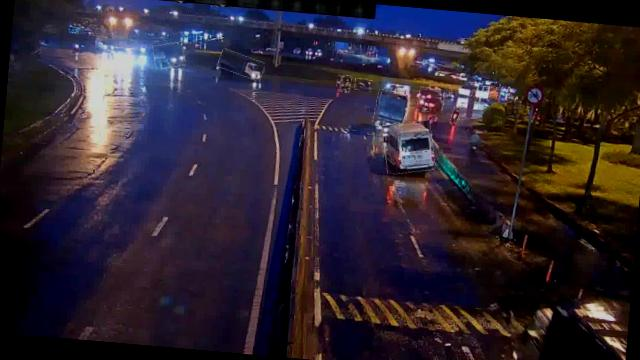Bike: (354, 78, 372, 91), (337, 76, 352, 90), (450, 106, 460, 125)
Bus: (380, 119, 438, 176)
Truck: (373, 90, 410, 131), (218, 50, 266, 78), (152, 41, 186, 70), (418, 88, 446, 114)
